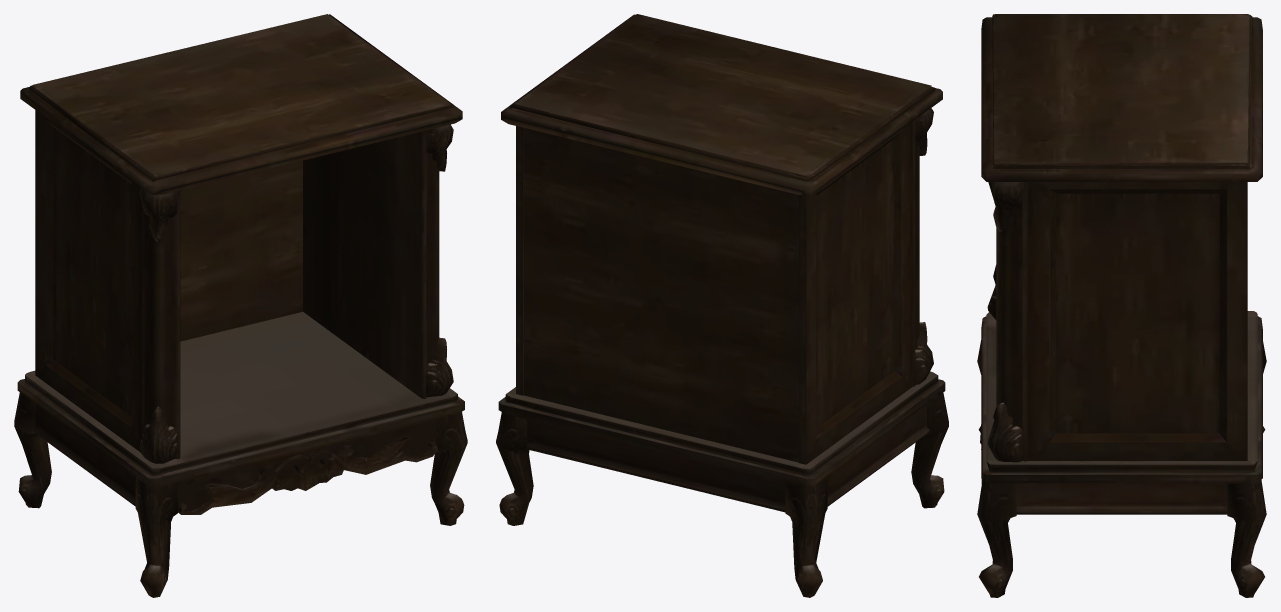
File: ClassicNightstand_01.ee562826.glb
3 renders of one model, left to right at view 1: azimuth 30°, elevation 25°; view 2: azimuth 150°, elevation 25°; view 3: azimuth 270°, elevation 25°, orthographic. The views are drawn at different scales.
Parts seen in each view (by area): view 1: ClassicNightstand_01; view 2: ClassicNightstand_01; view 3: ClassicNightstand_01.
Part boxes in pixels (<box>): ClassicNightstand_01: <box>14,14,467,597</box>; ClassicNightstand_01: <box>496,14,948,597</box>; ClassicNightstand_01: <box>977,14,1266,597</box>.
Size of the model in its own units: 0.5678 by 0.7 by 0.4242.
1 material, 1 textured.
